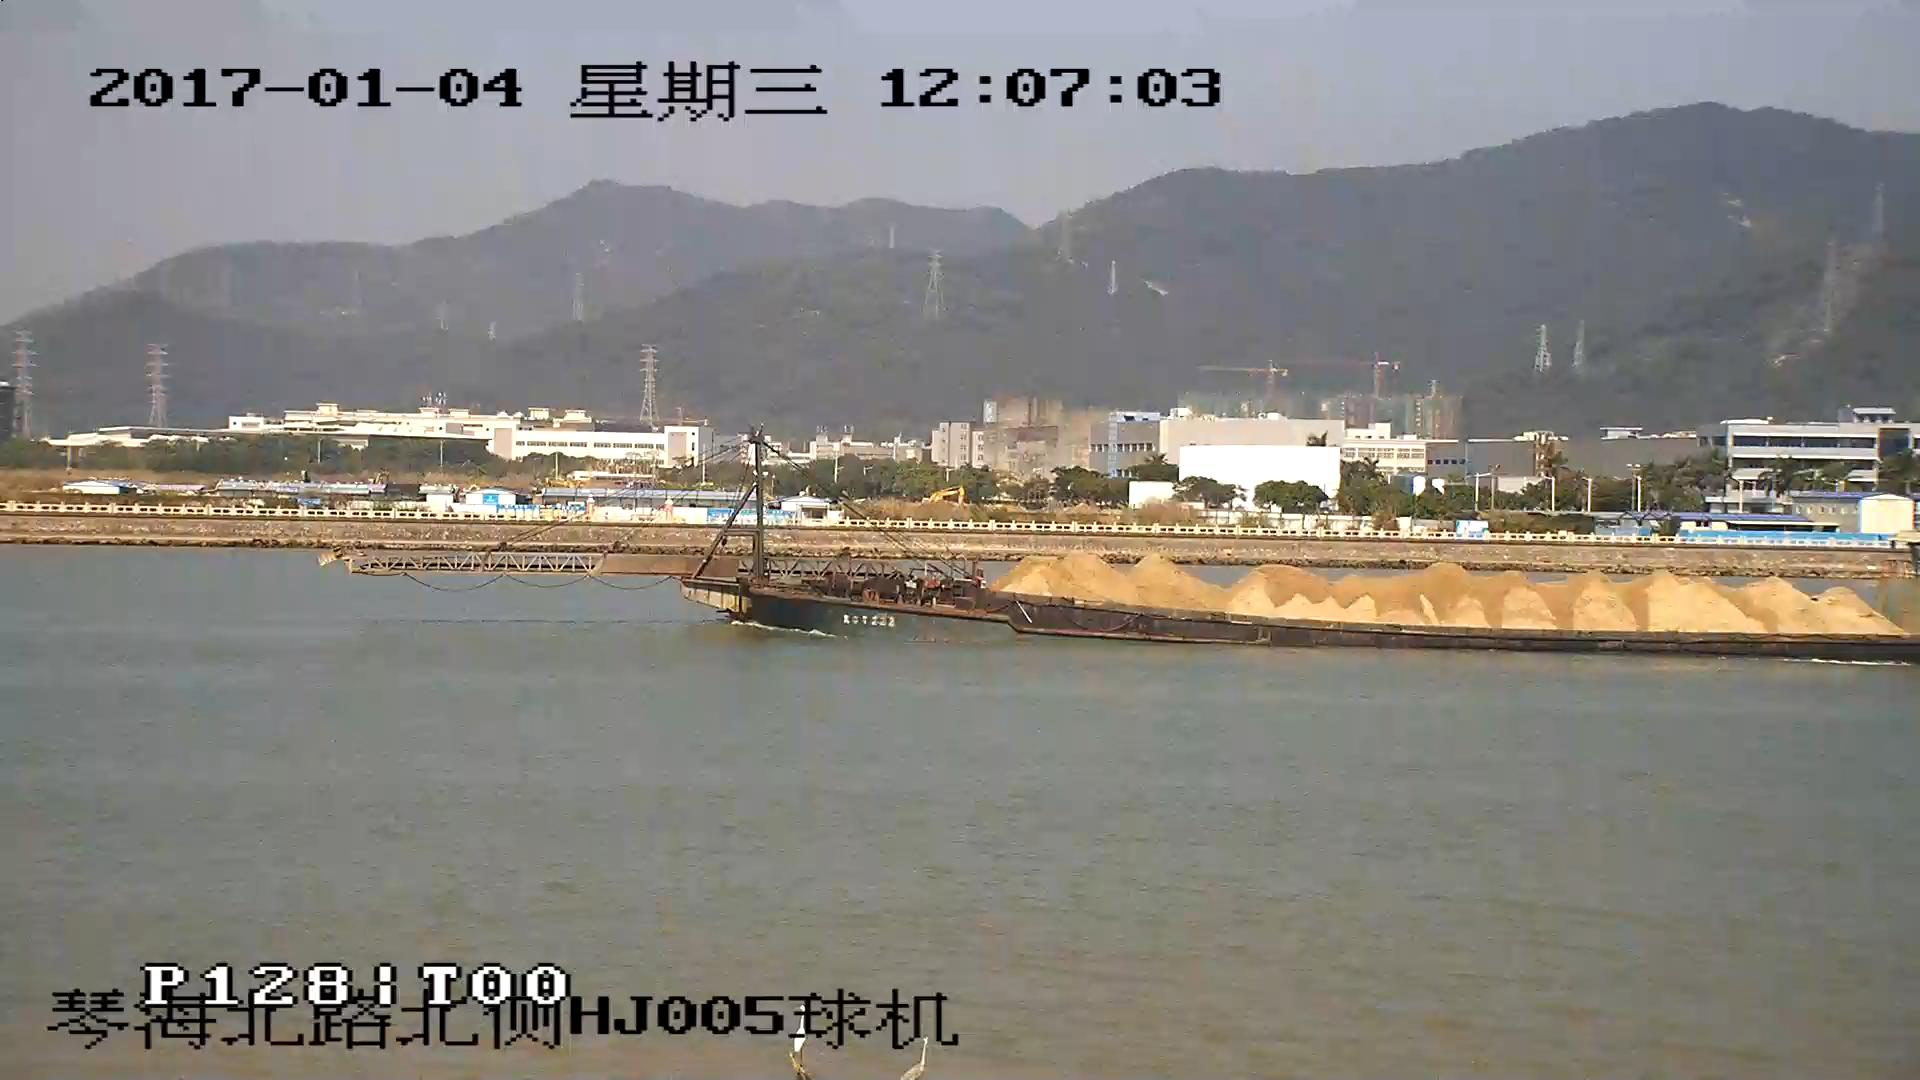ore carrier: (335, 431, 1920, 665)
